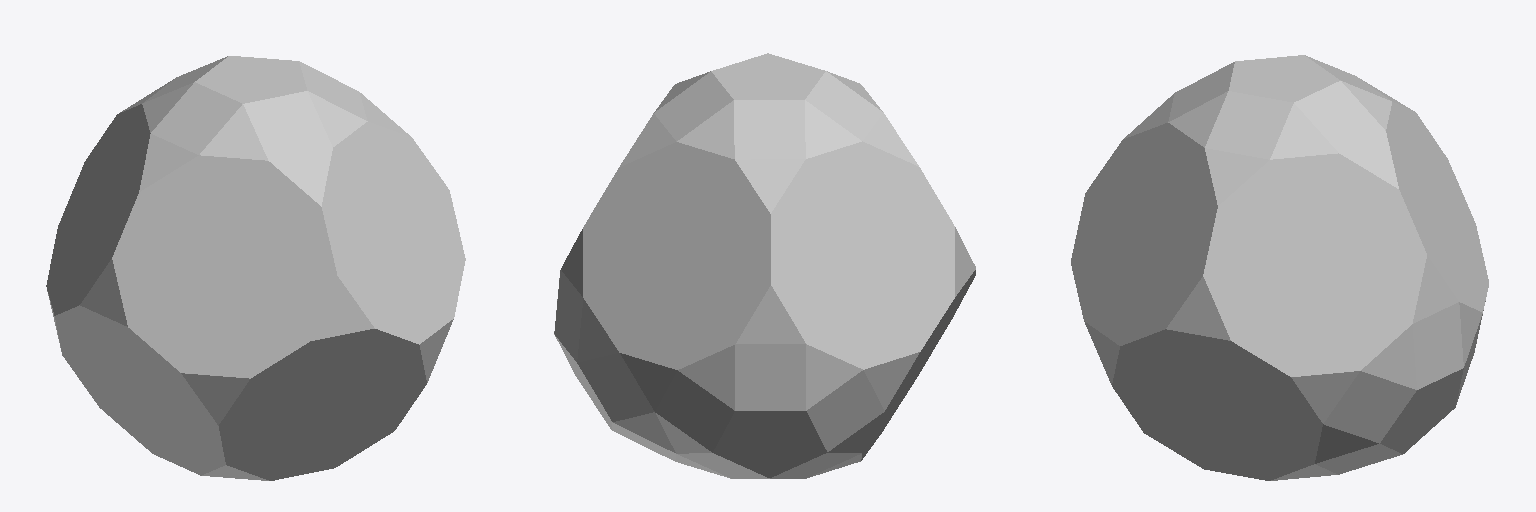
Rendered from TriaugmentedTruncatedDodecahedron.obj.
3 views of the same model, side by side, from view 1: azimuth 30°, elevation 25°; view 2: azimuth 150°, elevation 25°; view 3: azimuth 270°, elevation 25° (orthographic).
Visible parts, largest first — view 1: TriAugmentedTruncatedDodecahedron; view 2: TriAugmentedTruncatedDodecahedron; view 3: TriAugmentedTruncatedDodecahedron.
Part boxes in pixels (x1,y1,x2,y2): TriAugmentedTruncatedDodecahedron: (46,56,465,480); TriAugmentedTruncatedDodecahedron: (554,53,975,478); TriAugmentedTruncatedDodecahedron: (1071,55,1488,480).
Bounding box in the file's own units: 4.43 × 4.14 × 4.42.